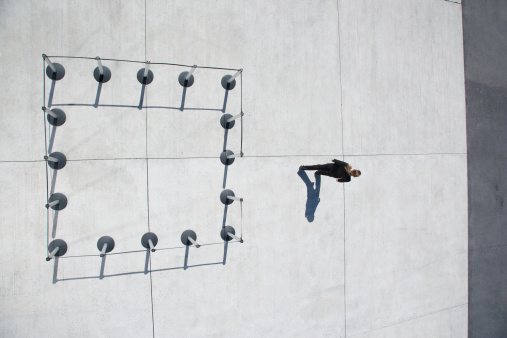em pe: (301, 155, 363, 216)
